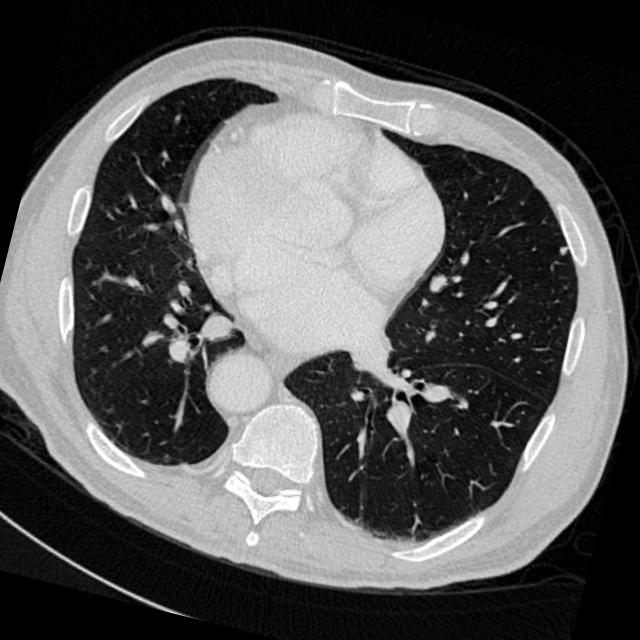nodule: (554, 237, 576, 259)
